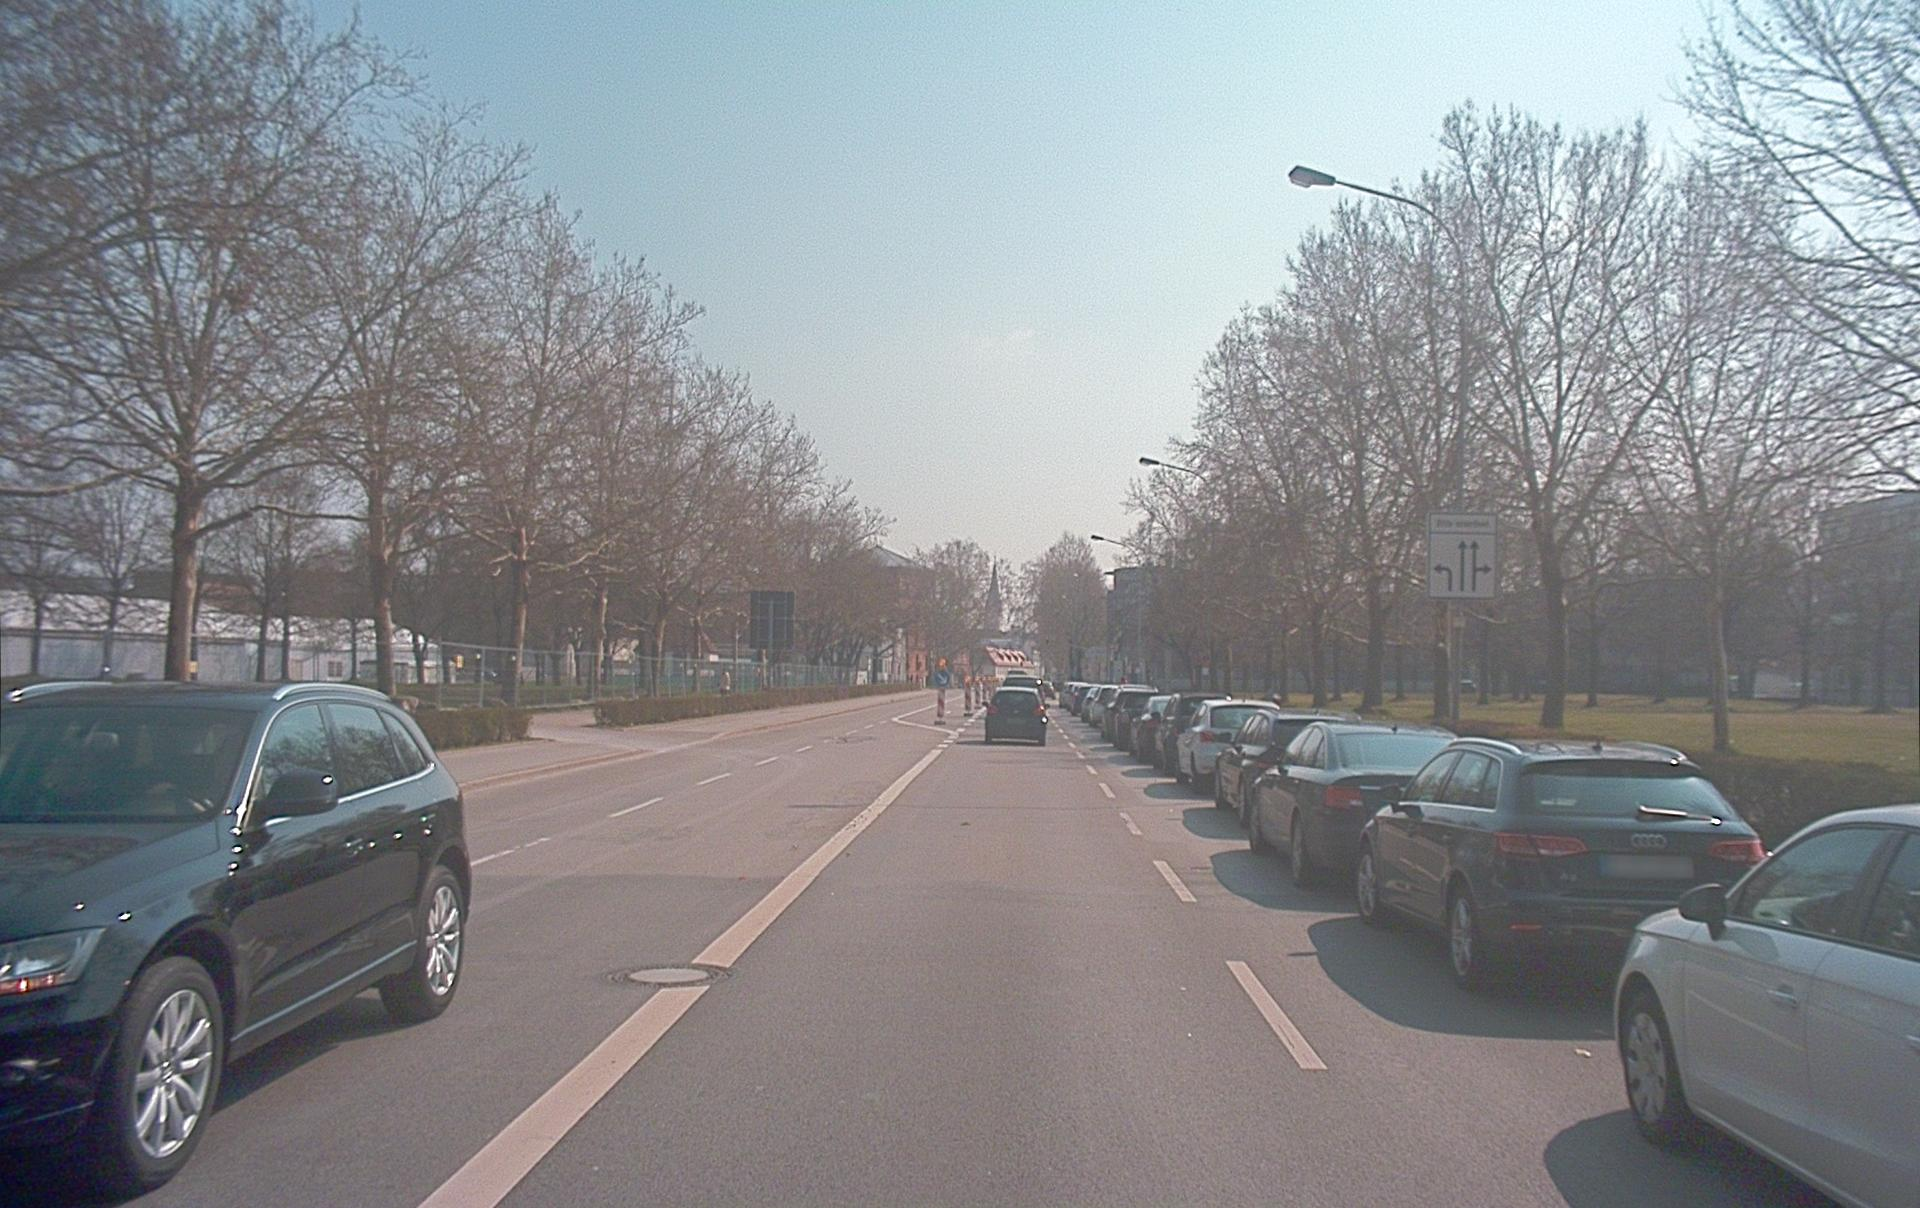car: (0, 682, 470, 1193), (1616, 805, 1919, 1205), (1355, 738, 1764, 988), (1213, 709, 1349, 822), (1177, 700, 1278, 788), (1154, 691, 1223, 773), (984, 686, 1047, 744), (1103, 686, 1156, 749), (1130, 695, 1169, 762), (1082, 685, 1118, 727), (1059, 681, 1091, 713)
